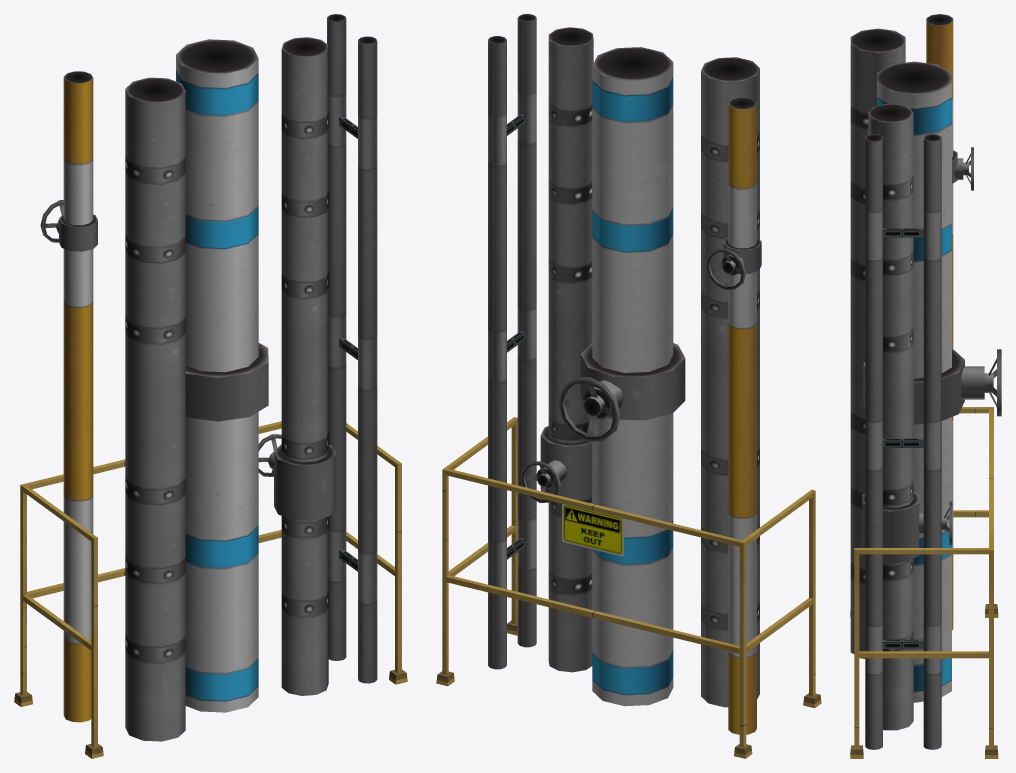
File: PipeGroup_Vert_01.FBX
3 views of the same model, side by side, from view 1: azimuth 30°, elevation 25°; view 2: azimuth 150°, elevation 25°; view 3: azimuth 270°, elevation 25° (orthographic). The views are drawn at different scales.
Parts seen in each view (by area): view 1: PipeGroup_Vert_01; view 2: PipeGroup_Vert_01; view 3: PipeGroup_Vert_01.
Part boxes in pixels (x1=…): PipeGroup_Vert_01: x1=14, y1=14, x2=407, y2=758; PipeGroup_Vert_01: x1=436, y1=14, x2=821, y2=758; PipeGroup_Vert_01: x1=850, y1=14, x2=1001, y2=758.
Bounding box in the file's own units: 72.66 × 140 × 31.67.
